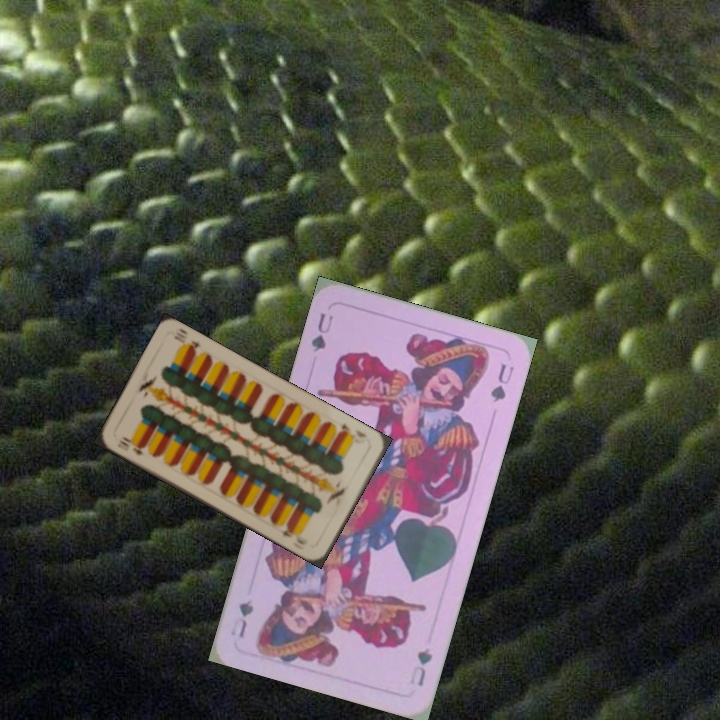E10: (115, 433, 147, 458), (335, 419, 369, 440)
GU: (405, 643, 435, 689), (307, 309, 336, 355)
